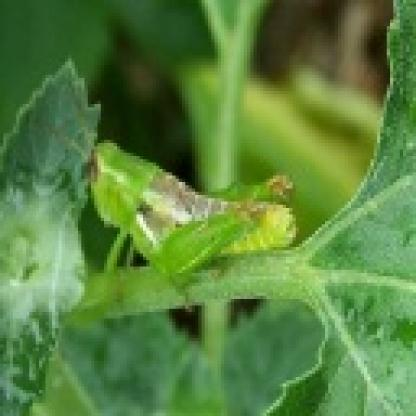grasshopper: (82, 128, 301, 291)
